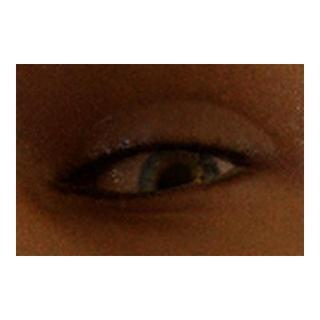pupil: (160, 166, 198, 204)
